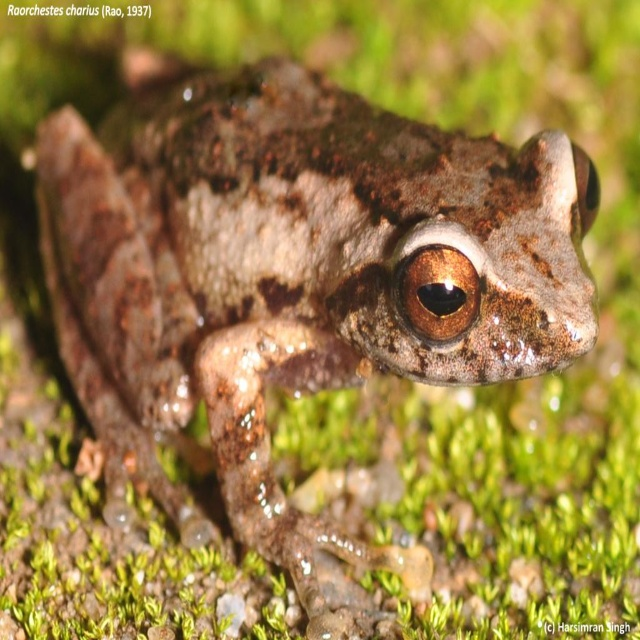Frog: (34, 59, 599, 639)
